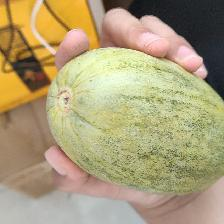gua: (51, 30, 220, 199)
